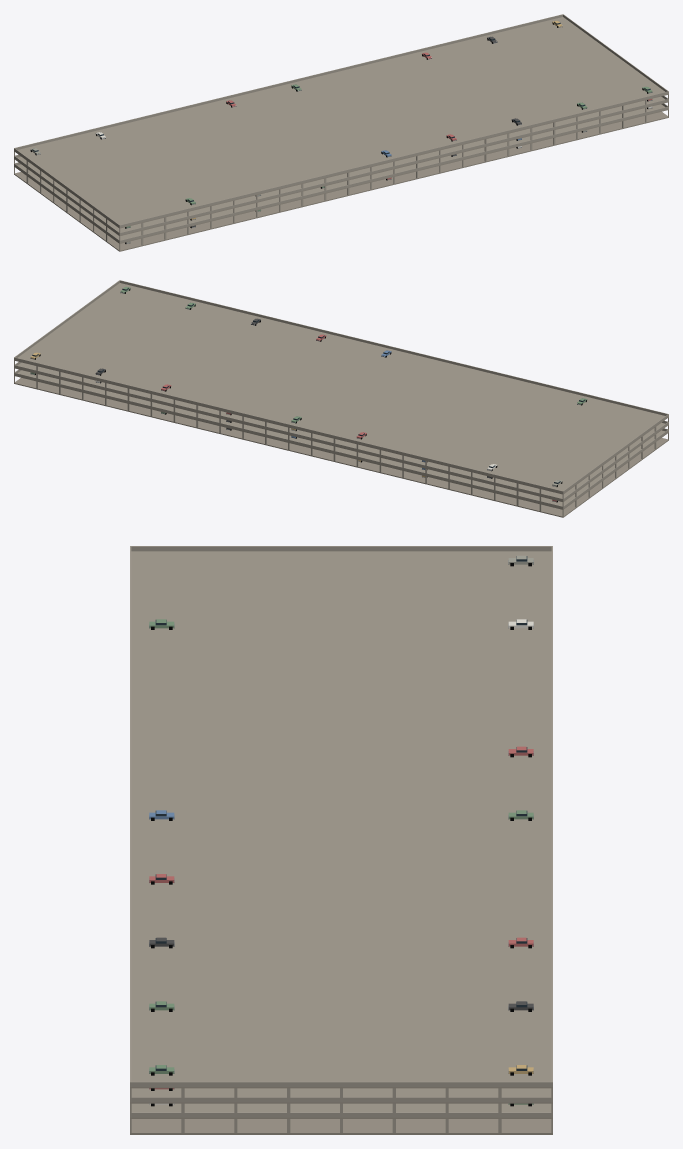
The model's file is multi_storey_car_park.glb.
3 renders of one model, top to bottom at view 1: azimuth 30°, elevation 25°; view 2: azimuth 150°, elevation 25°; view 3: azimuth 270°, elevation 25°, orthographic. The views are drawn at different scales.
Visible parts, largest first — view 1: LOD0; view 2: LOD0; view 3: LOD0.
Part boxes in pixels (left/top/right/bottom): LOD0: left=14, top=14, right=668, bottom=251; LOD0: left=14, top=280, right=668, bottom=517; LOD0: left=130, top=546, right=552, bottom=1134.
Size of what is drawn, in the model's own units: 240 by 11.42 by 80.
